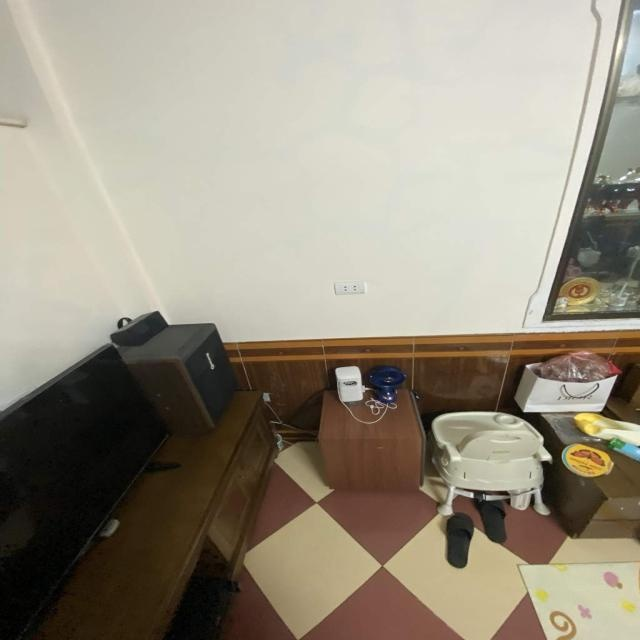outlet: (333, 281, 366, 295)
